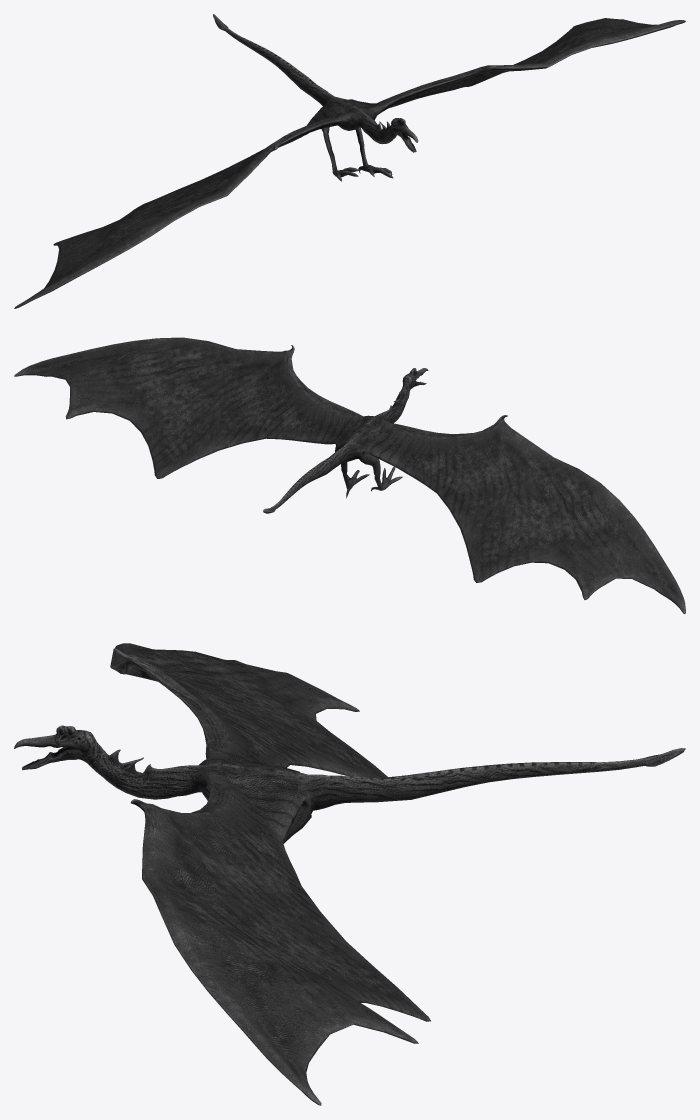
The model's file is Fellbeast_Animate_Grab_Glide_26.obj.
The picture shows the model from 3 angles, top to bottom: view 1: azimuth 30°, elevation 25°; view 2: azimuth 150°, elevation 25°; view 3: azimuth 270°, elevation 25°; orthographic projection. The views are drawn at different scales.
Parts seen in each view (by area): view 1: Fellbeast; view 2: Fellbeast; view 3: Fellbeast.
Part boxes in pixels (x1,y1,x2,y2): Fellbeast: (14, 14, 685, 308); Fellbeast: (14, 337, 685, 614); Fellbeast: (14, 643, 685, 1105).
Bounding box in the file's own units: 9.22 × 1.97 × 4.37.
